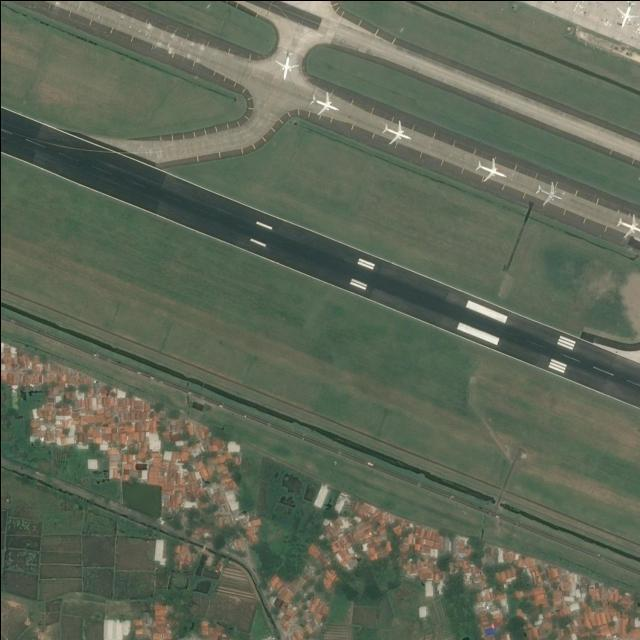Aircraft: (370, 117, 415, 142), (474, 159, 510, 184), (472, 158, 506, 183), (379, 121, 411, 147), (532, 181, 565, 206), (309, 93, 343, 117), (273, 51, 299, 81), (308, 92, 338, 116), (613, 214, 640, 240), (533, 182, 561, 207), (271, 54, 296, 81), (612, 215, 640, 239), (614, 1, 638, 29), (614, 5, 640, 29)
